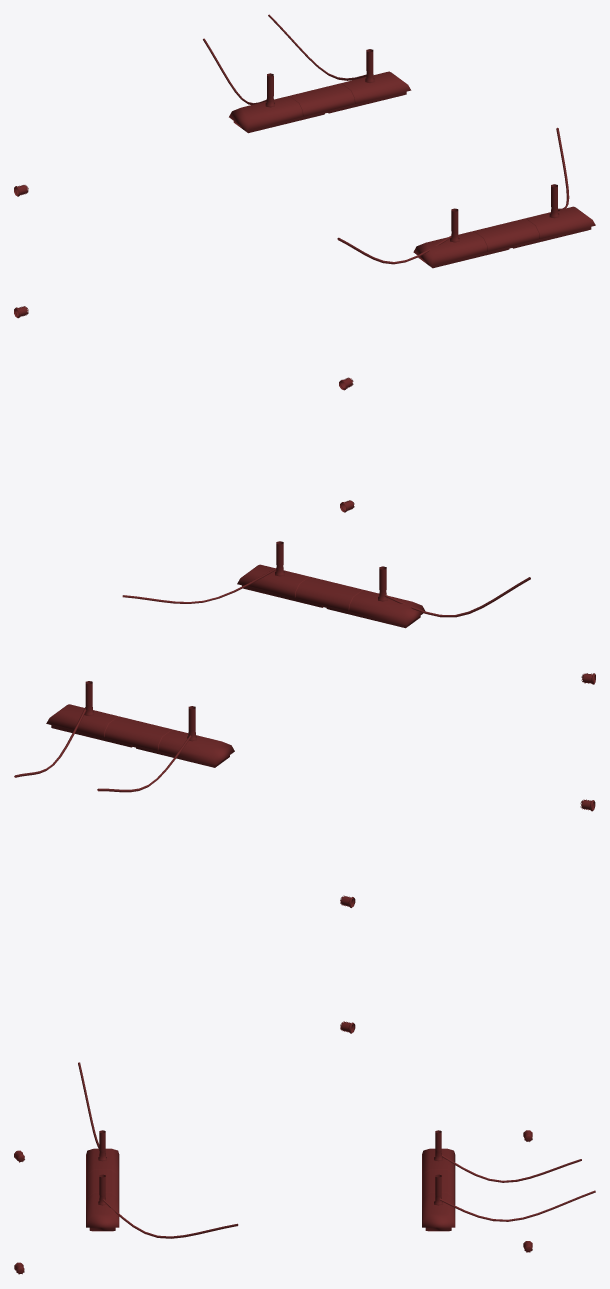
The model's file is Lamps_Salac.fbx.
3 renders of one model, top to bottom at view 1: azimuth 30°, elevation 25°; view 2: azimuth 150°, elevation 25°; view 3: azimuth 270°, elevation 25°, orthographic. The views are drawn at different scales.
Visible parts, largest first — view 1: Lampada_teto, Lampada_teto1; view 2: Lampada_teto, Lampada_teto1, Fiacao1, Fiacao; view 3: Lampada_teto1, Lampada_teto, Fiacao, Fiacao1.
Part boxes in pixels (x1,y1,x2,y2): Lampada_teto: [229, 49, 411, 133]; Lampada_teto1: [413, 184, 595, 268]; Lampada_teto: [46, 681, 234, 767]; Lampada_teto1: [237, 541, 425, 628]; Fiacao1: [122, 568, 530, 617]; Fiacao: [14, 707, 191, 792]; Lampada_teto1: [86, 1130, 119, 1231]; Lampada_teto: [422, 1130, 455, 1231]; Fiacao: [439, 1155, 595, 1221]; Fiacao1: [78, 1062, 238, 1238].
Bounding box in the file's own units: 122 × 74.19 × 177.
